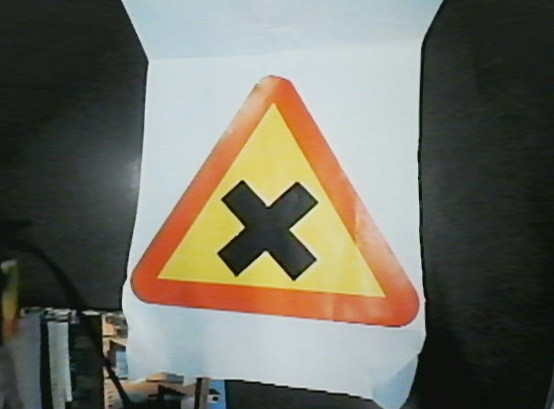junction: (130, 64, 420, 334)
